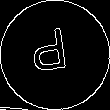P_S: (33, 27, 77, 83)
